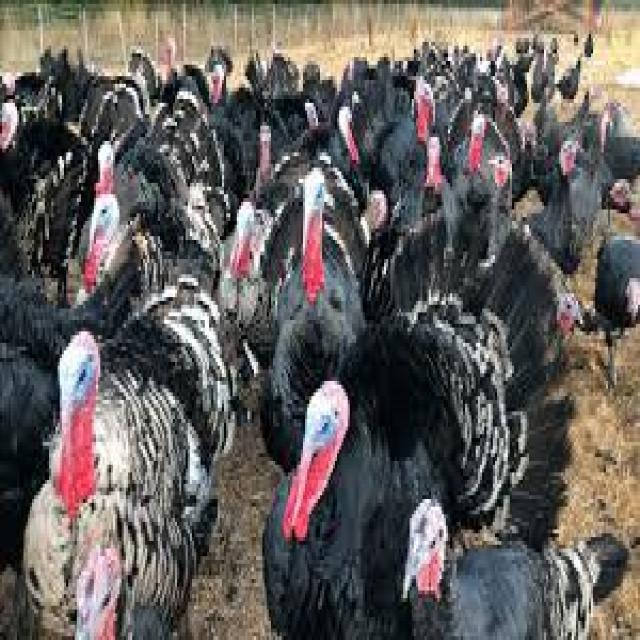Turkey: (20, 330, 208, 638), (254, 376, 438, 626), (399, 478, 634, 640), (252, 162, 381, 445), (77, 184, 225, 406), (388, 68, 486, 204), (466, 132, 542, 297), (600, 235, 640, 390), (548, 132, 586, 259)
